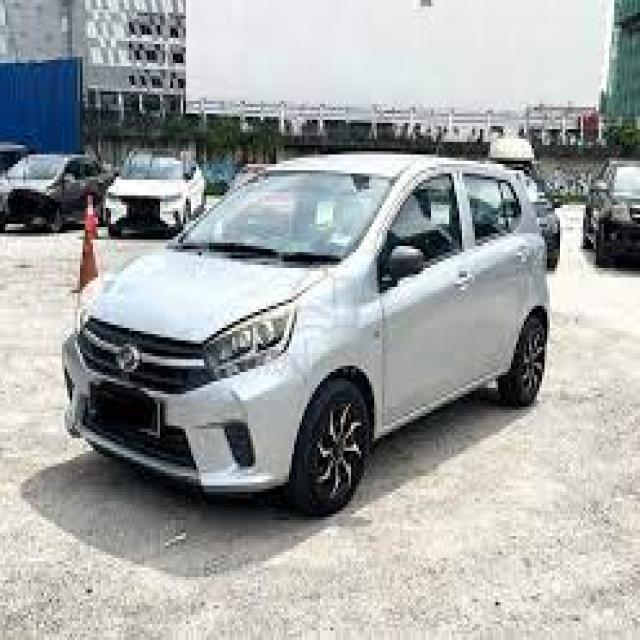PeroduaAxia: (60, 145, 552, 517)
